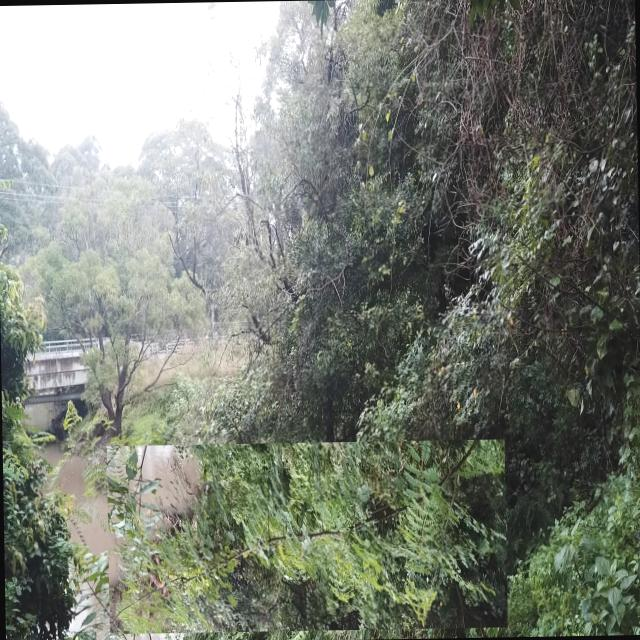Mysore-Thorn-Weed: (106, 439, 508, 634)
